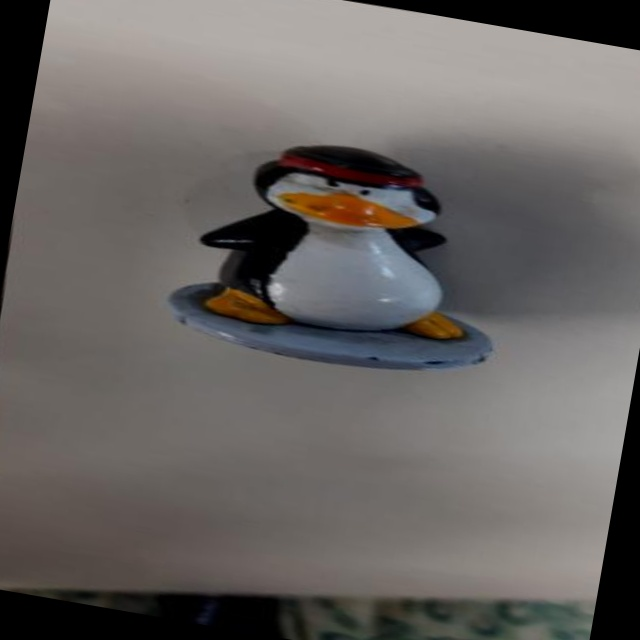Penguin: (121, 91, 551, 429)
